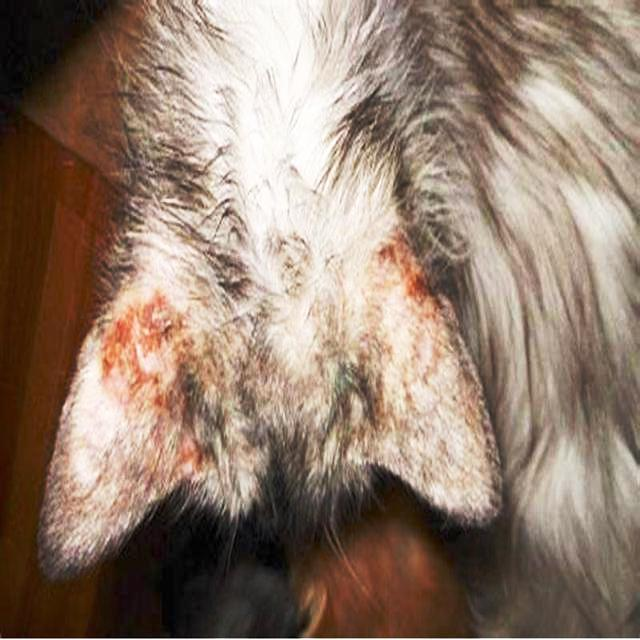ringworm: (89, 303, 209, 446), (376, 226, 454, 354)
